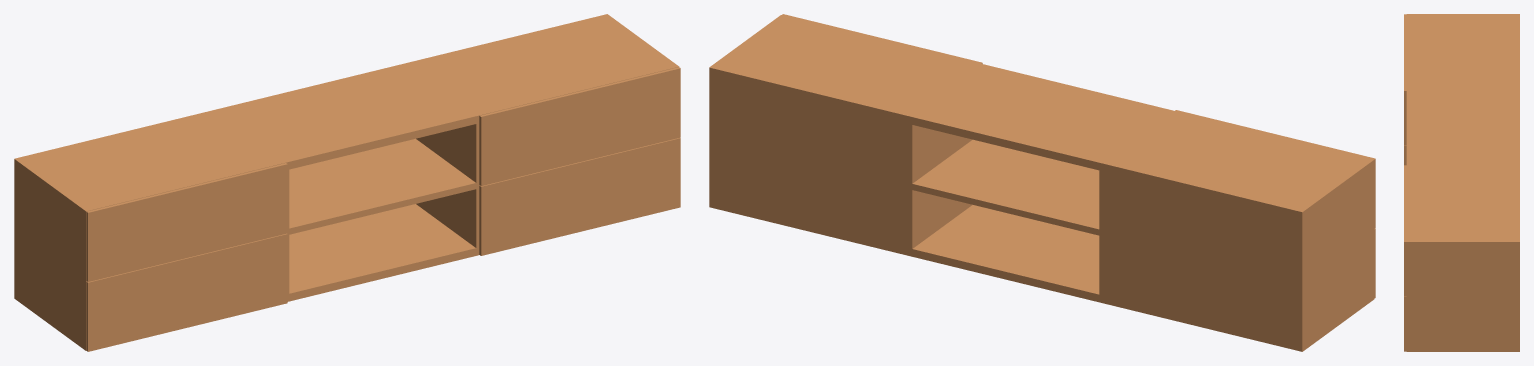
The model's file is tv_bench.dae.
The picture shows the model from 3 angles, left to right: view 1: azimuth 30°, elevation 25°; view 2: azimuth 150°, elevation 25°; view 3: azimuth 270°, elevation 25°; orthographic projection. The views are drawn at different scales.
Visible parts, largest first — view 1: TV_Bench; view 2: TV_Bench; view 3: TV_Bench.
Part boxes in pixels (x1,y1,x2,y2): TV_Bench: (14,14,680,351); TV_Bench: (709,14,1375,351); TV_Bench: (1404,14,1519,351).
Bounding box in the file's own units: 2 × 0.43 × 0.45.
